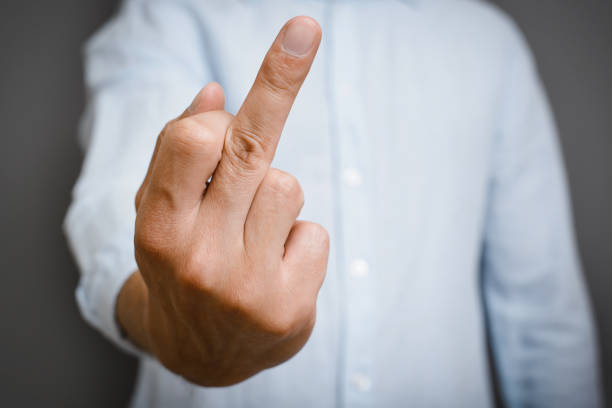insulting_gesture: (113, 12, 334, 390)
